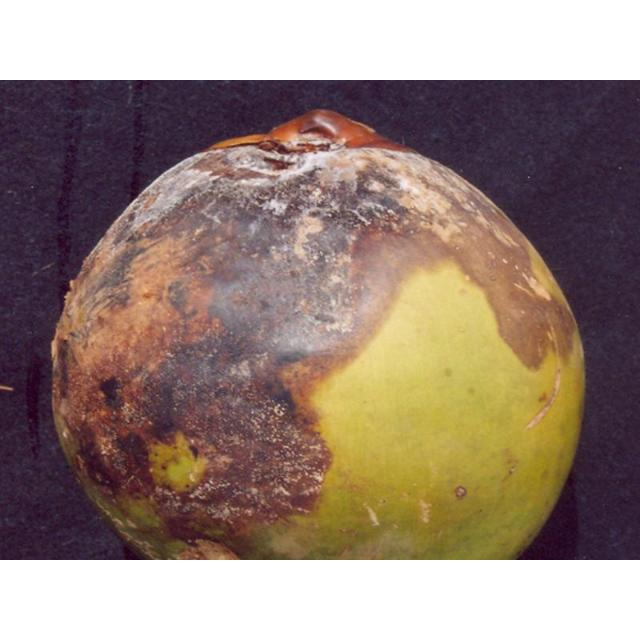damaged: (50, 110, 586, 559)
